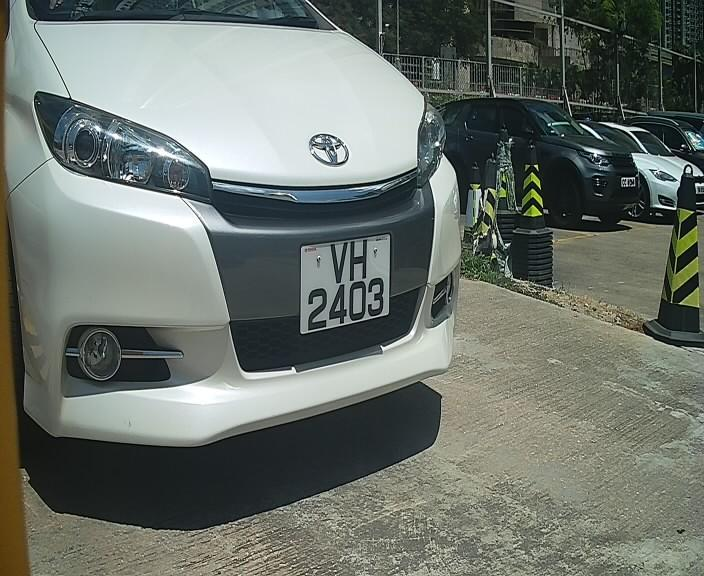privatecar: (19, 6, 453, 461)
